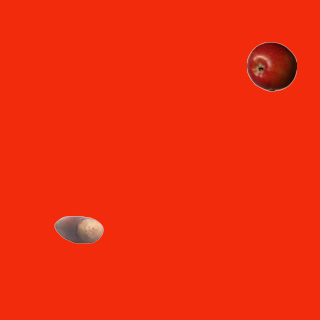Apple Braeburn: (246, 41, 296, 91)
Hazelnut: (53, 204, 103, 254)
